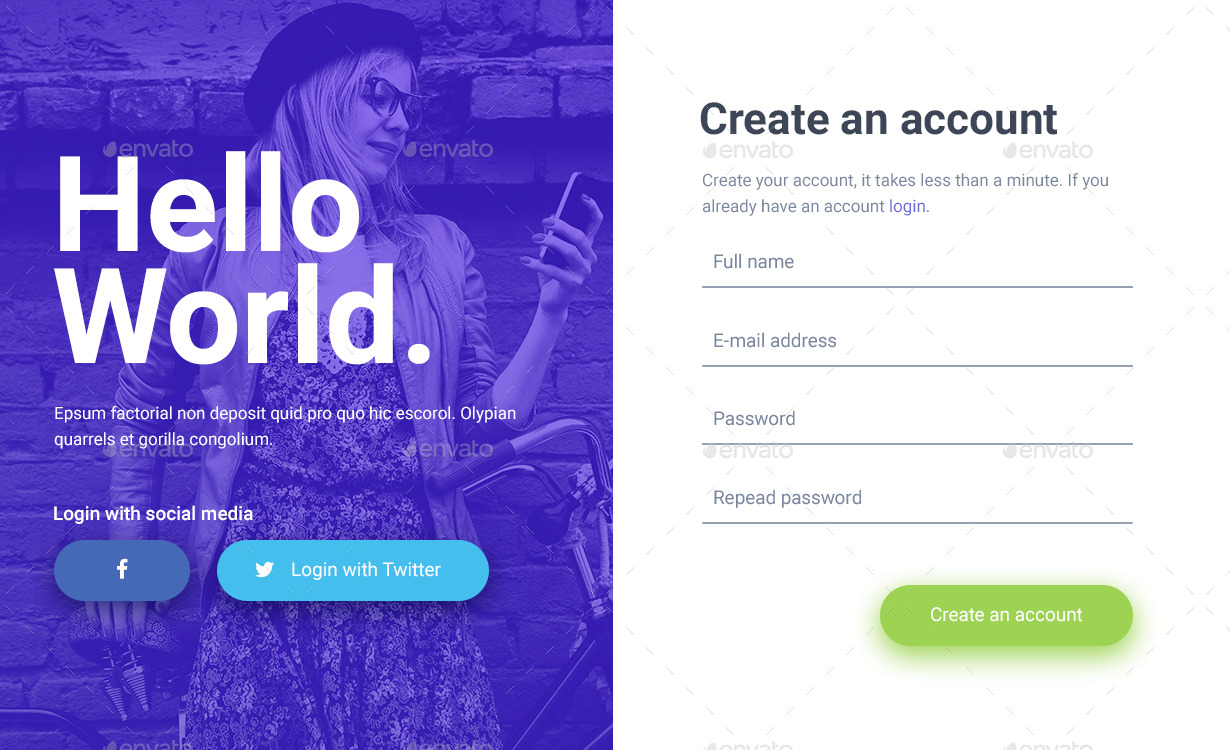_form_: (684, 240, 1150, 656), (48, 501, 495, 635)
button: (215, 539, 490, 602), (880, 582, 1131, 648), (54, 539, 190, 603)
field_line: (701, 406, 1137, 450), (697, 328, 1136, 371), (697, 249, 1137, 291), (698, 486, 1133, 527)
